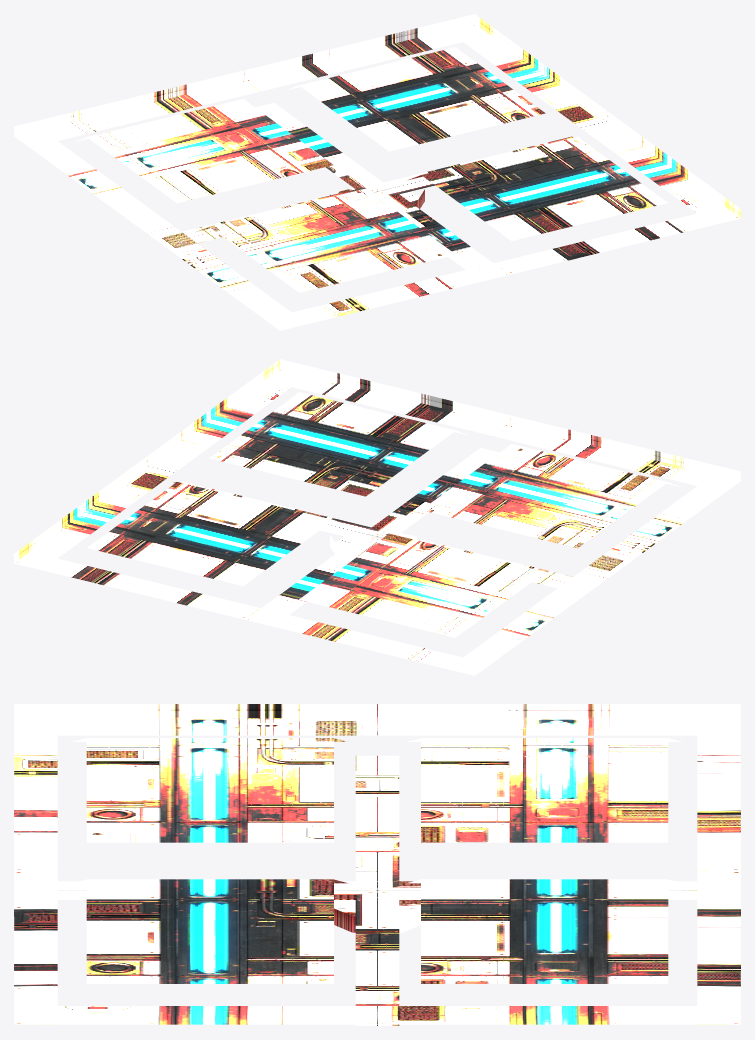
The model's file is ceiling_tech.glb.
3 renders of one model, top to bottom at view 1: azimuth 30°, elevation 25°; view 2: azimuth 150°, elevation 25°; view 3: azimuth 270°, elevation 25°, orthographic. The views are drawn at different scales.
Parts seen in each view (by area): view 1: Ceiling_Tech; view 2: Ceiling_Tech; view 3: Ceiling_Tech.
Part boxes in pixels (box(x1,y1,x2,y2)): Ceiling_Tech: box(14, 14, 740, 330); Ceiling_Tech: box(14, 359, 740, 675); Ceiling_Tech: box(14, 704, 740, 1025).
Size of the model in its own units: 1 by 0.08 by 1.
Materials: 1 (1 with a texture image).
